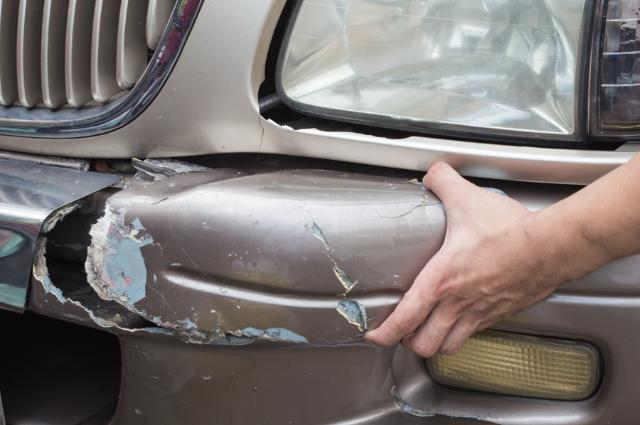Bumper: (33, 150, 420, 425)
